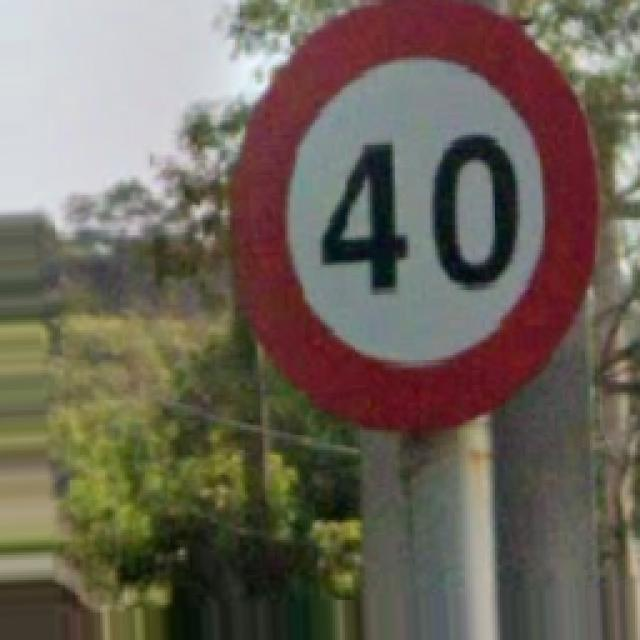Speed Limit -40-: (232, 0, 595, 425)
